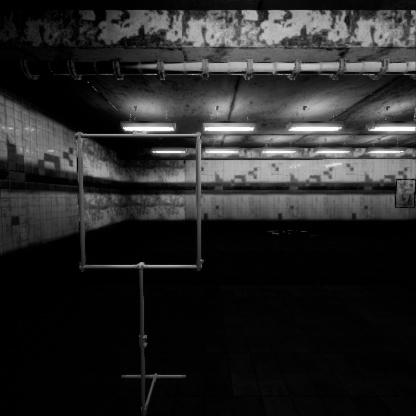gate: (78, 145, 212, 282)
